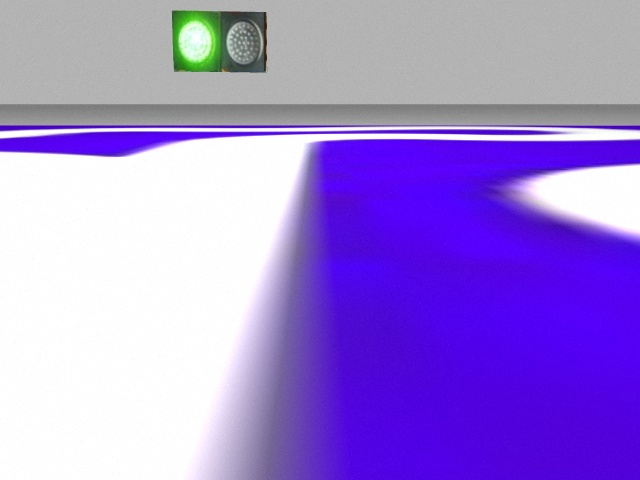green: (172, 10, 224, 72)
